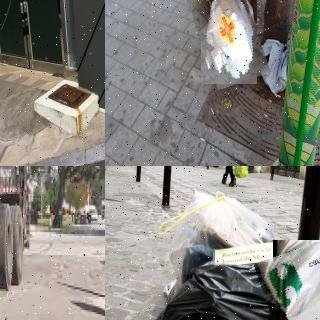Garbage: (157, 186, 282, 302), (151, 246, 293, 320), (194, 0, 264, 87), (263, 232, 320, 320)
